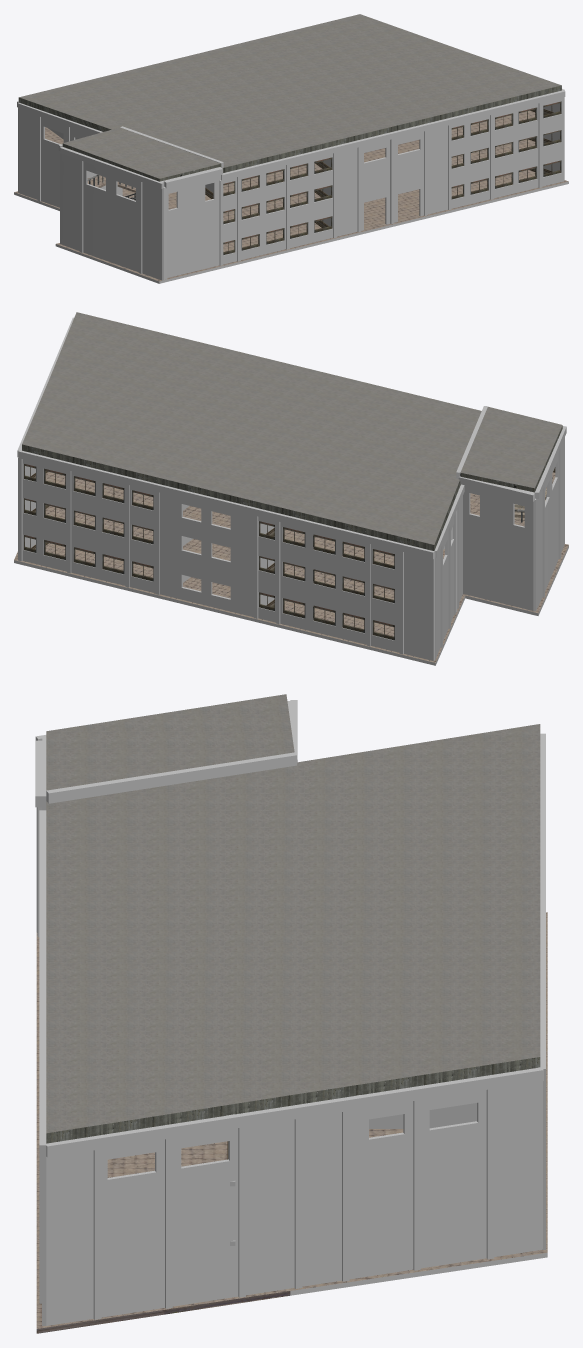
The model's file is SchoolBuilding.fbx.
The picture shows the model from 3 angles, top to bottom: view 1: azimuth 30°, elevation 25°; view 2: azimuth 150°, elevation 25°; view 3: azimuth 270°, elevation 25°; orthographic projection. The views are drawn at different scales.
Parts seen in each view (by area): view 1: SchoolWalls, SchoolFloor; view 2: SchoolWalls, SchoolFloor; view 3: SchoolWalls, SchoolFloor.
Part boxes in pixels (bbox=[...]): SchoolWalls: bbox=[17, 14, 565, 280]; SchoolFloor: bbox=[14, 110, 568, 283]; SchoolWalls: bbox=[17, 312, 566, 660]; SchoolFloor: bbox=[14, 471, 568, 665]; SchoolWalls: bbox=[35, 694, 545, 1325]; SchoolFloor: bbox=[36, 912, 547, 1333].
Size of the model in its own units: 769 by 170 by 380.
